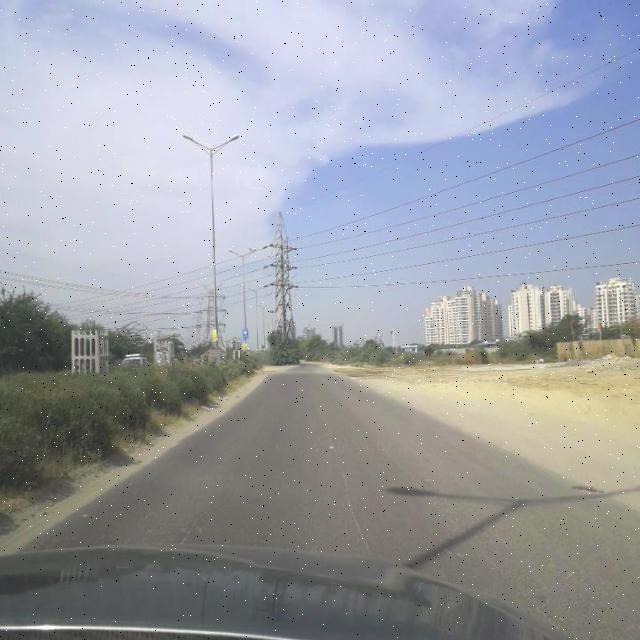D00: (316, 394, 380, 556)
D20: (435, 479, 624, 620)
